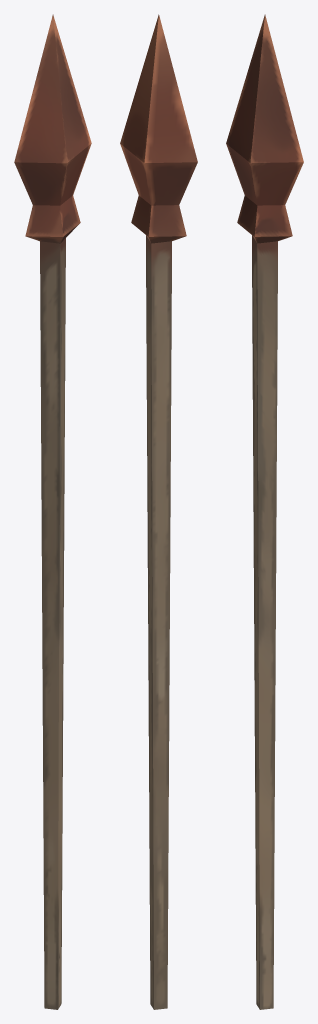
Rendered from Rome_Village_Props_03.FBX.
3 renders of one model, left to right at view 1: azimuth 30°, elevation 25°; view 2: azimuth 150°, elevation 25°; view 3: azimuth 330°, elevation 25°, orthographic.
Parts seen in each view (by area): view 1: Rome_Village_Props_03; view 2: Rome_Village_Props_03; view 3: Rome_Village_Props_03.
Boxes of the visible parts, bbox=[...] form: Rome_Village_Props_03: bbox=[14, 14, 91, 1009]; Rome_Village_Props_03: bbox=[120, 14, 197, 1009]; Rome_Village_Props_03: bbox=[226, 14, 303, 1009].
Size of the model in its own units: 22.23 by 271 by 14.14.
